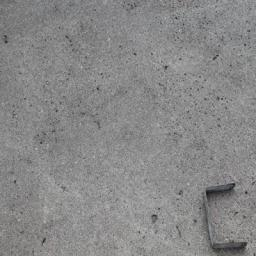FOD: (202, 181, 251, 251)
